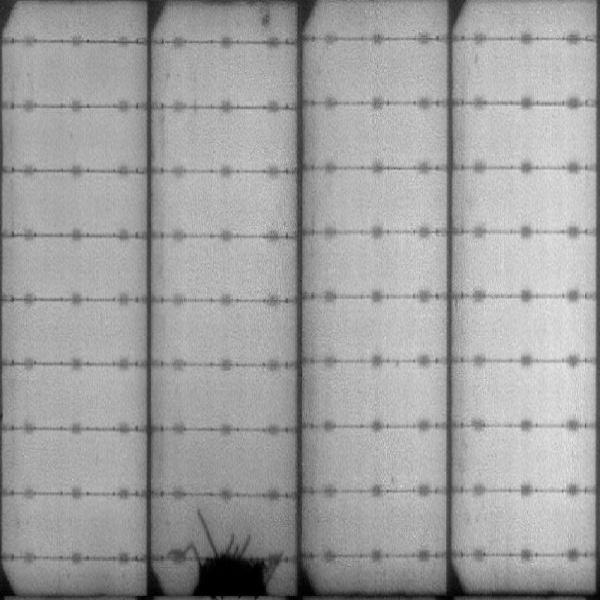broken: (185, 509, 283, 600)
